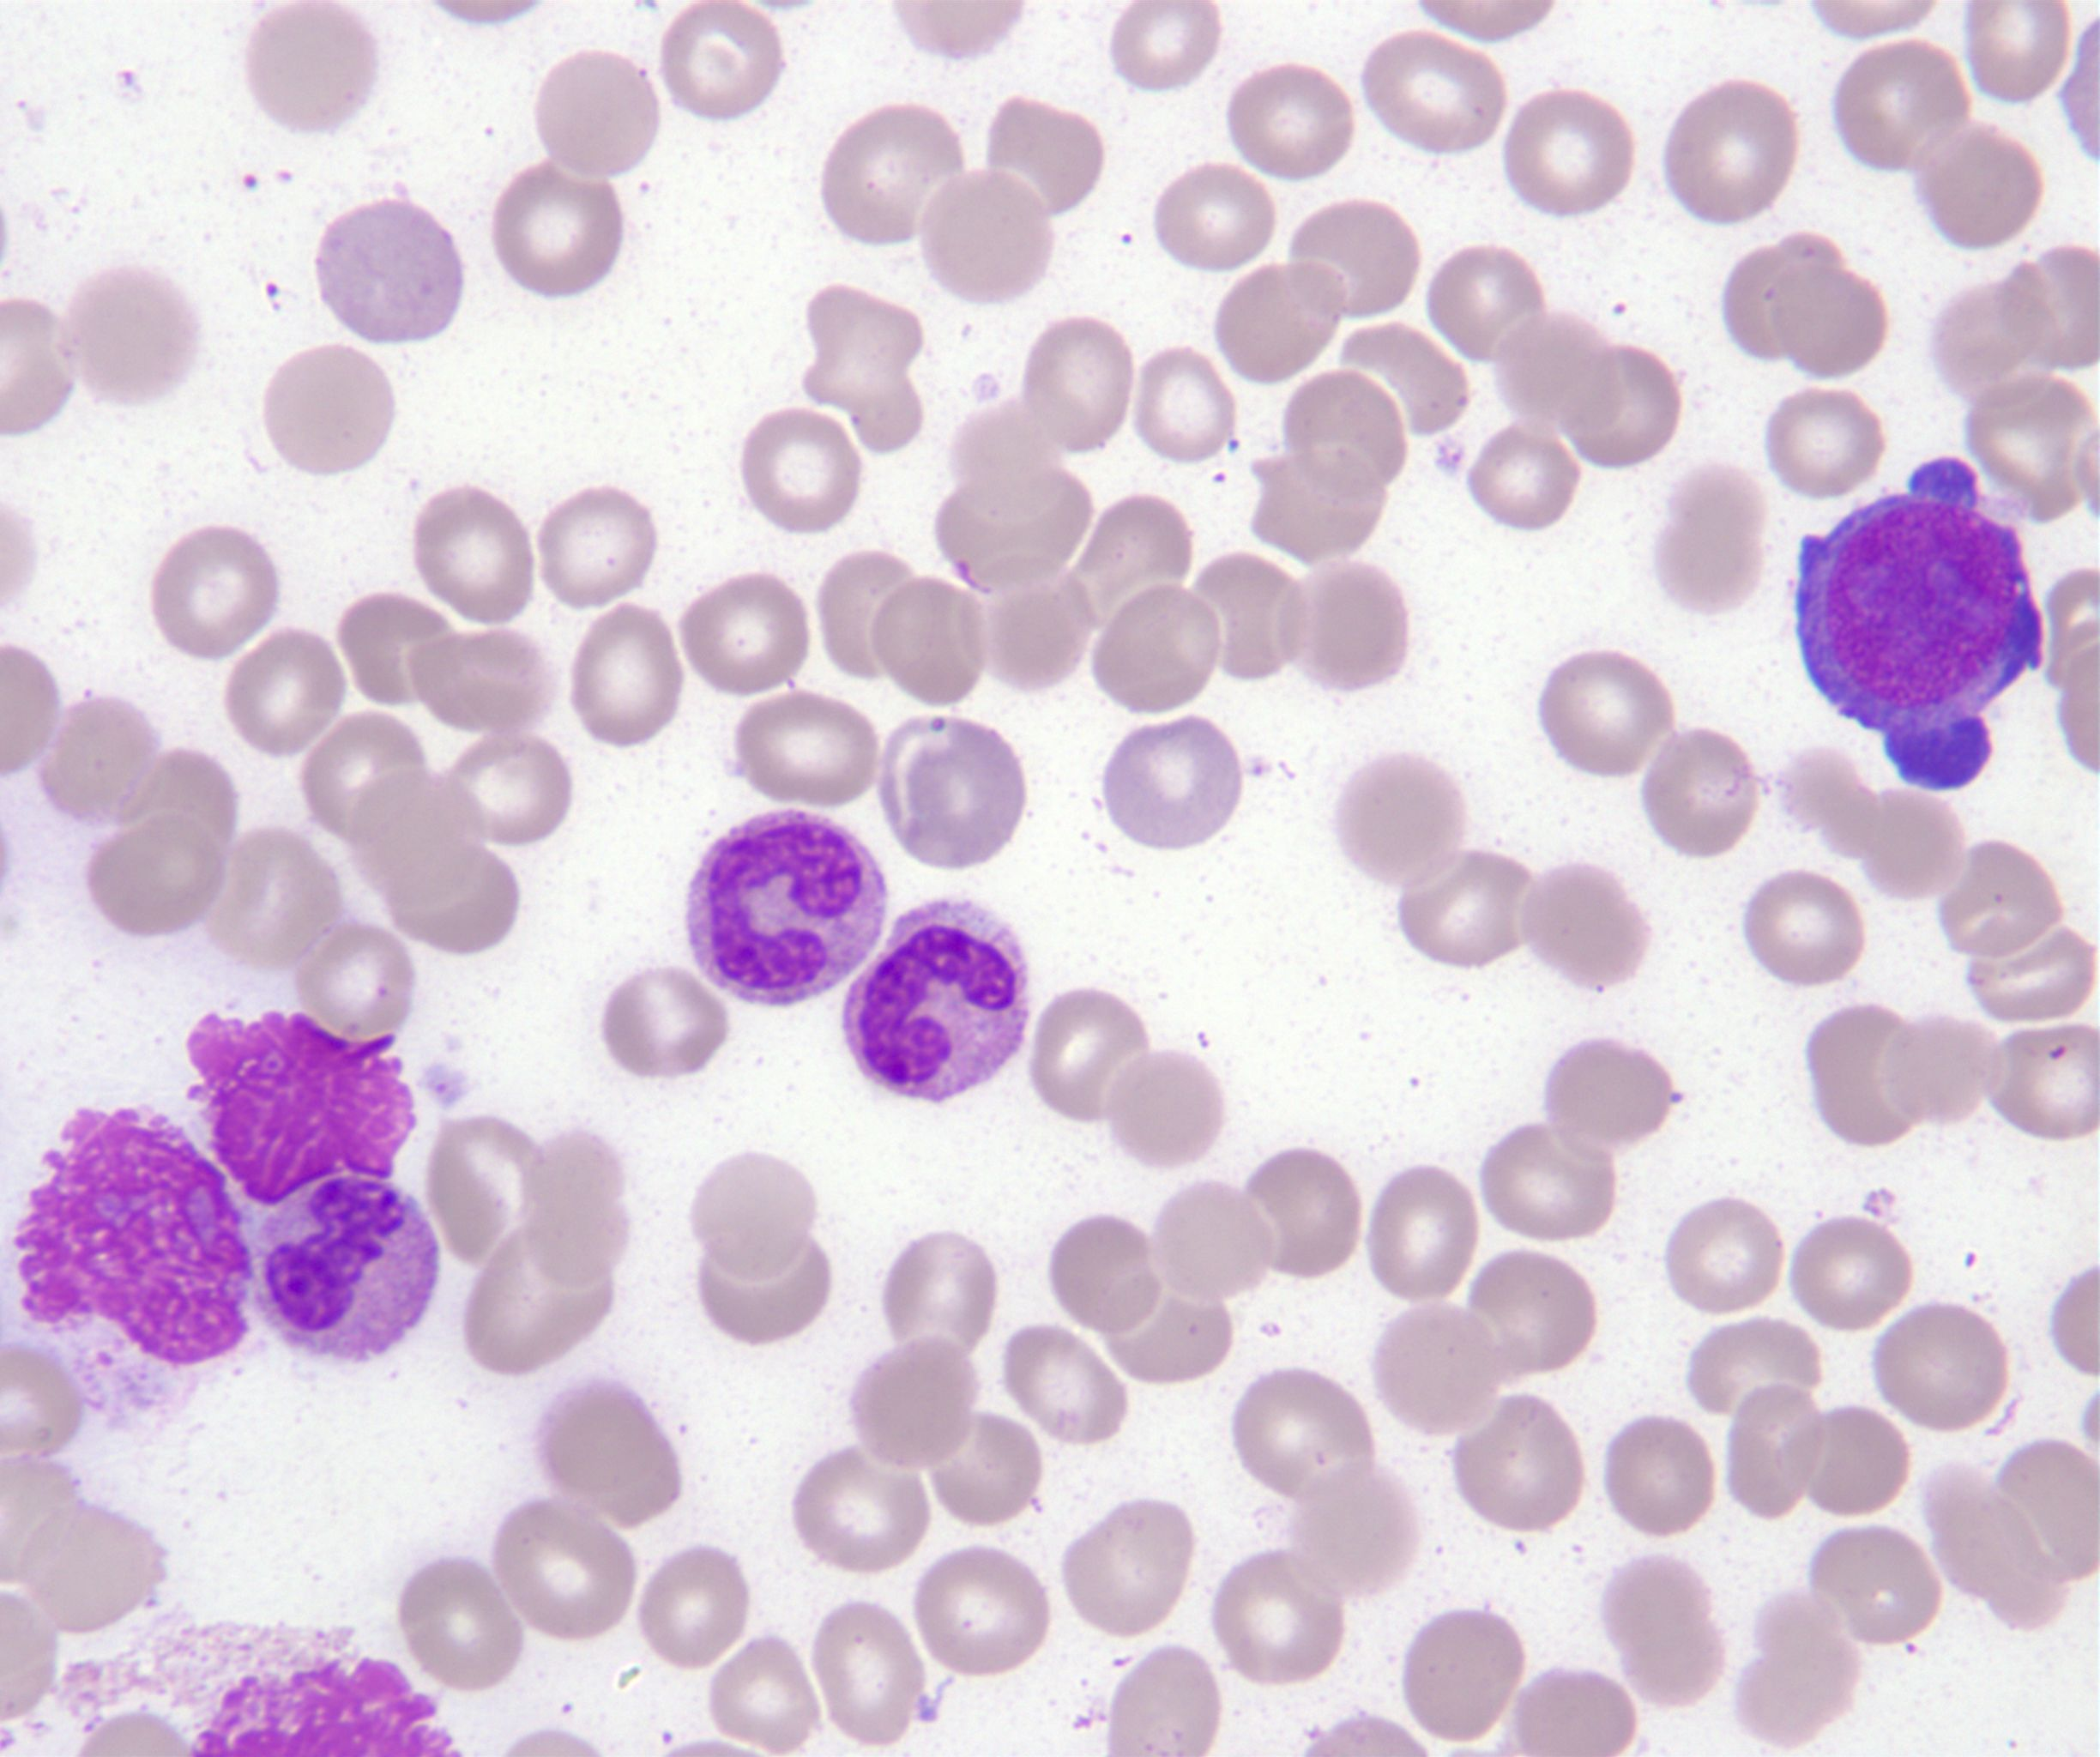21: (1797, 459, 2042, 790)
5: (685, 811, 886, 1003), (844, 899, 1026, 1097)
6: (246, 1176, 438, 1364)
x: (12, 1110, 253, 1368), (188, 1012, 415, 1206)
